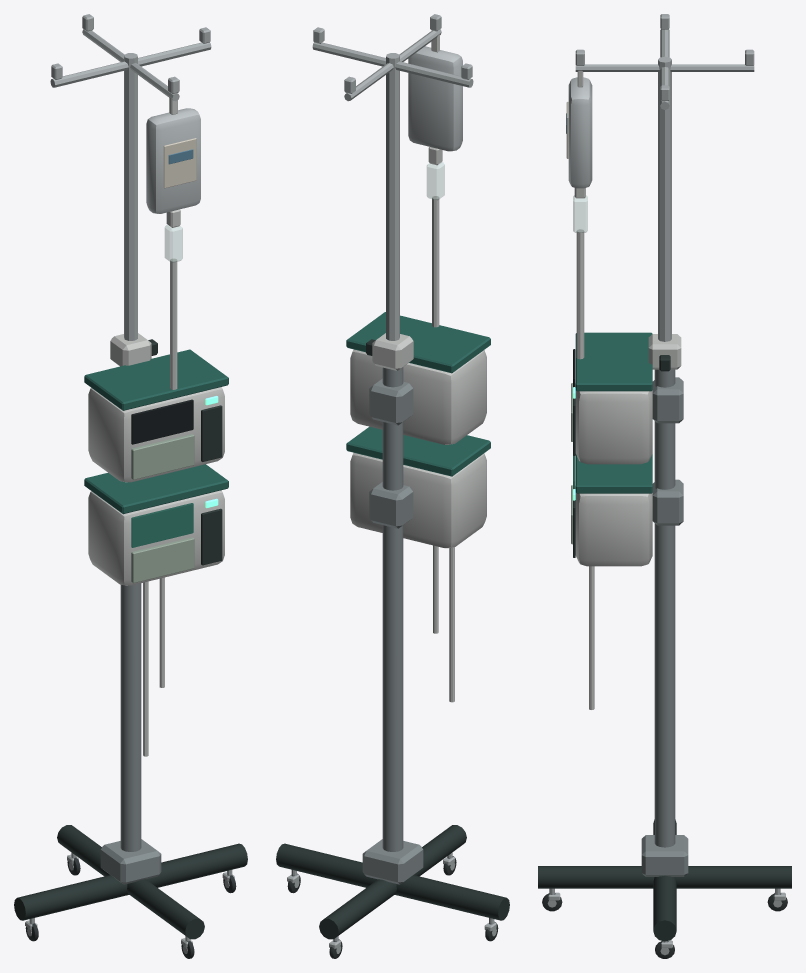
The model's file is infusion-pump.glb.
3 views of the same model, side by side, from view 1: azimuth 30°, elevation 25°; view 2: azimuth 150°, elevation 25°; view 3: azimuth 270°, elevation 25° (orthographic).
Parts seen in each view (by area): view 1: infusion-pump; view 2: infusion-pump; view 3: infusion-pump.
Boxes of the visible parts, box(x1,y1,x2,y2) form: infusion-pump: box(14, 14, 247, 958); infusion-pump: box(276, 14, 509, 958); infusion-pump: box(538, 14, 791, 958).
Bounding box in the file's own units: 0.54 × 2.02 × 0.54.
